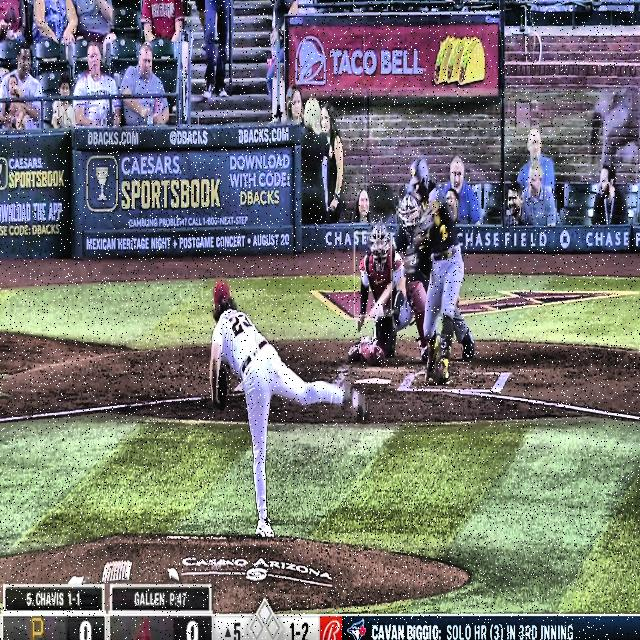baseball: (376, 302, 384, 319)
